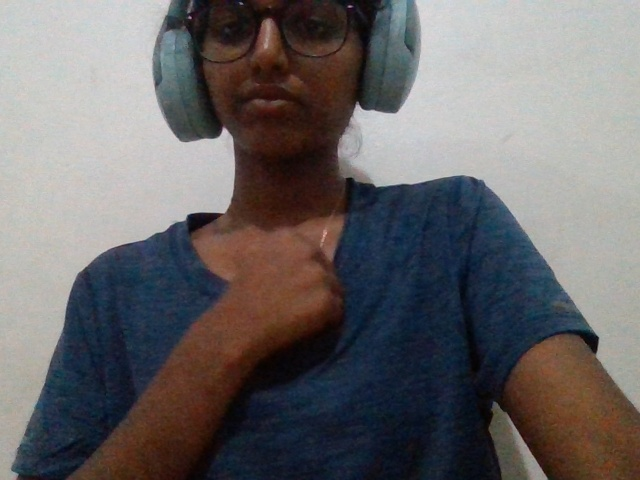Sorry: (187, 216, 364, 424)
